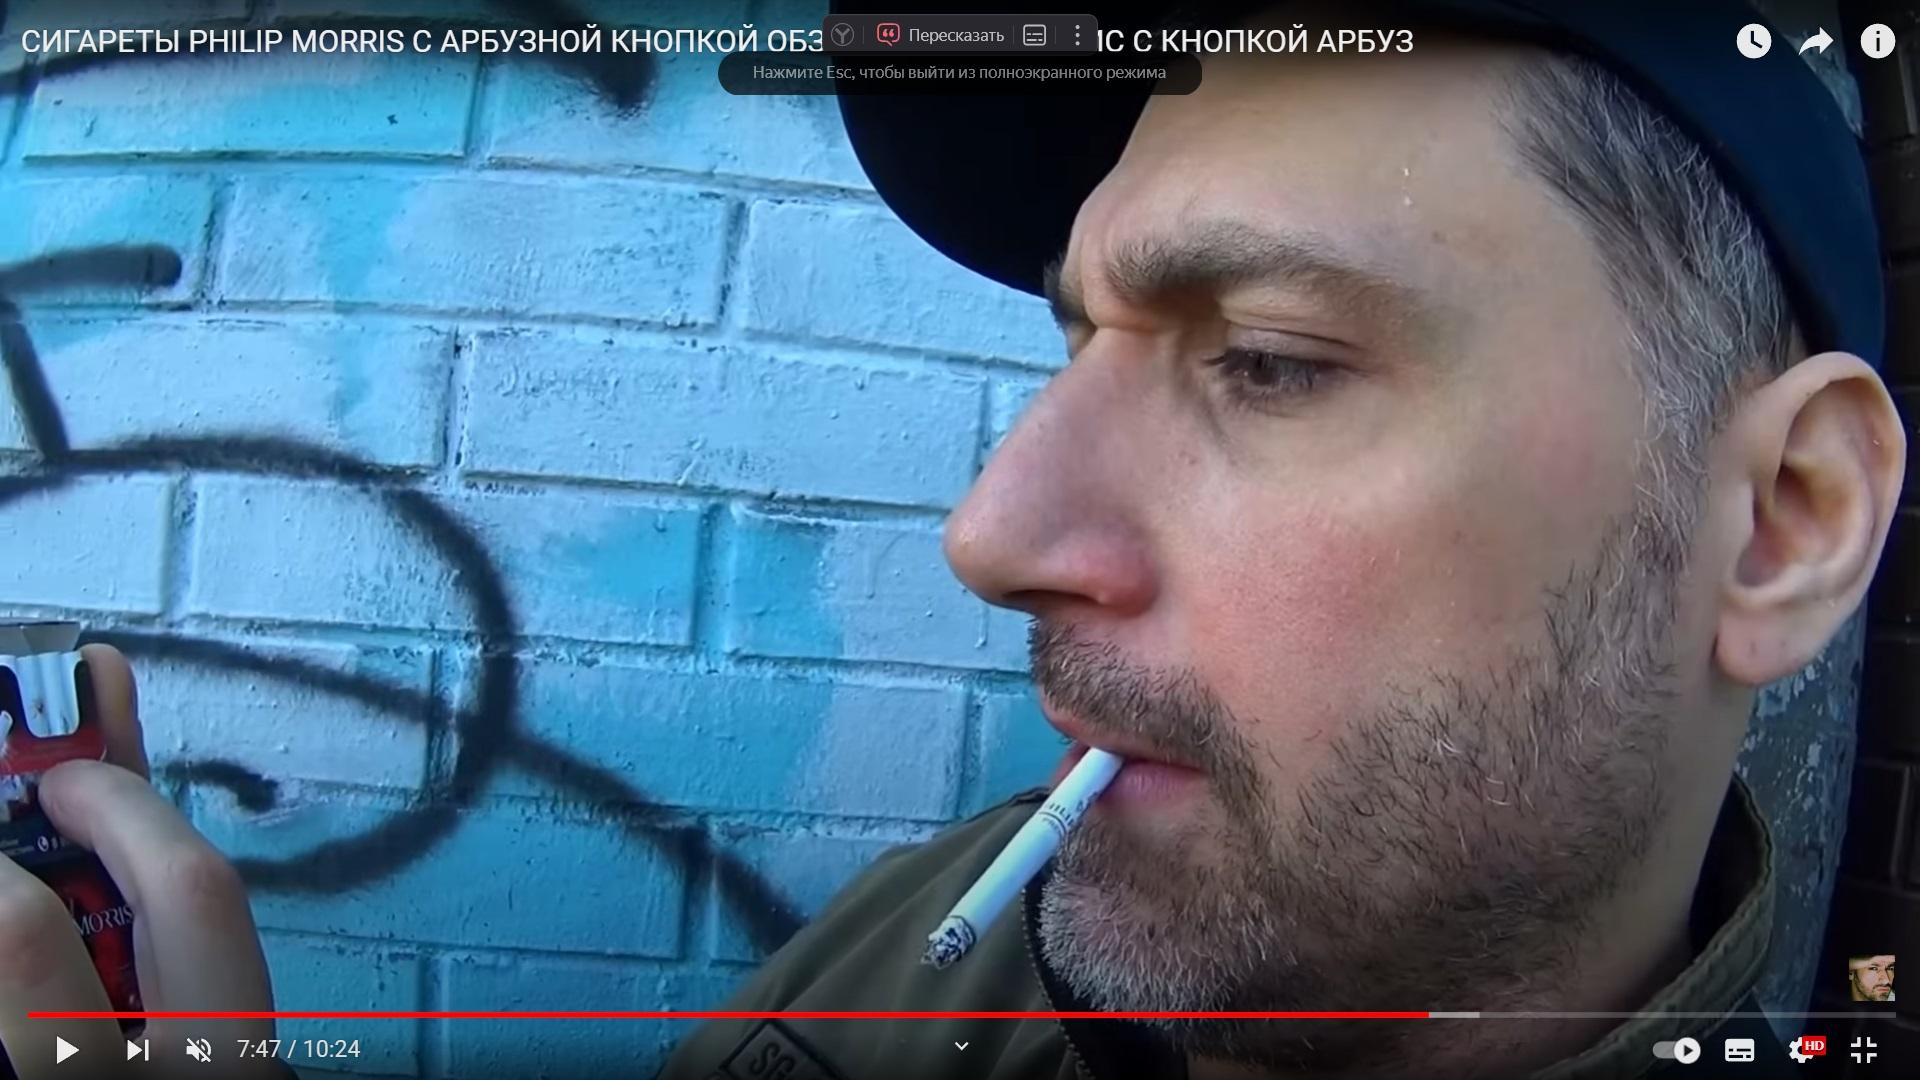cigarette: (918, 745, 1130, 972)
